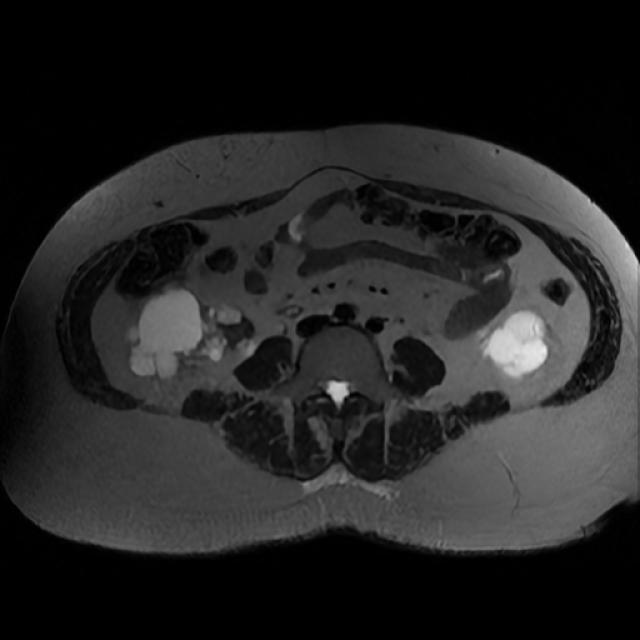sag: (126, 287, 257, 381)
sol: (475, 309, 547, 379)
